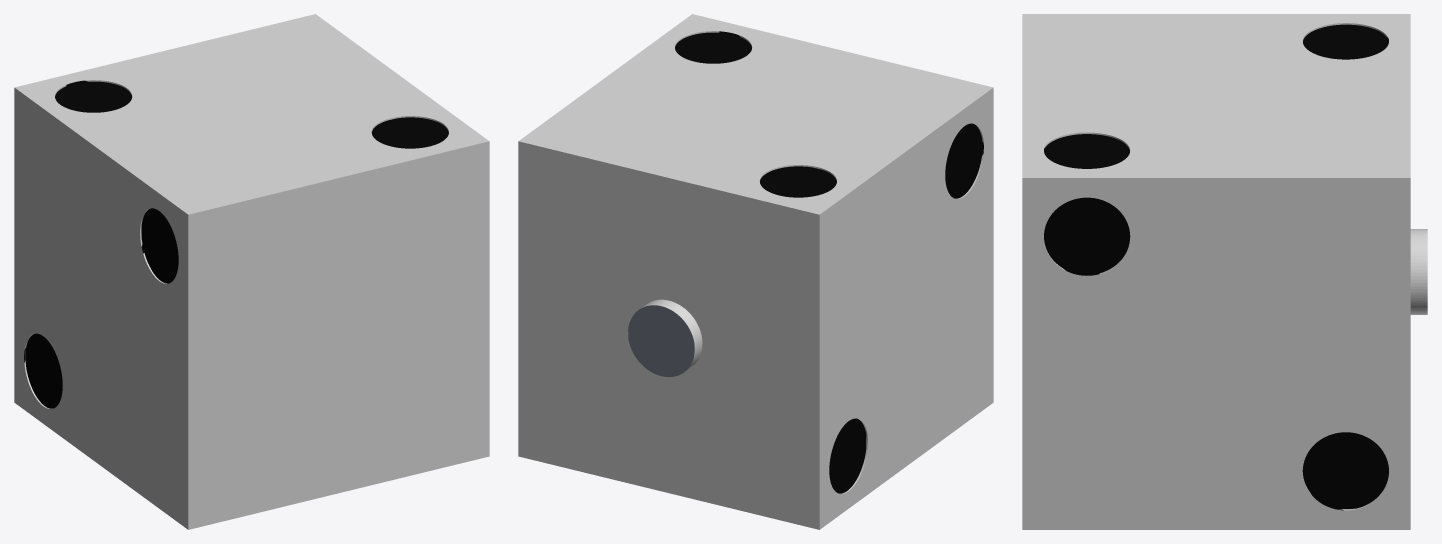
The model's file is dice2.fbx.
3 views of the same model, side by side, from view 1: azimuth 30°, elevation 25°; view 2: azimuth 150°, elevation 25°; view 3: azimuth 270°, elevation 25° (orthographic). The views are drawn at different scales.
Visible parts, largest first — view 1: Dice2; view 2: Dice2; view 3: Dice2.
Part boxes in pixels (box(x1,y1,x2,y2)): Dice2: box(14, 14, 489, 529); Dice2: box(518, 14, 993, 529); Dice2: box(1022, 14, 1427, 529).
Bounding box in the file's own units: 22.86 × 22.86 × 23.86.
